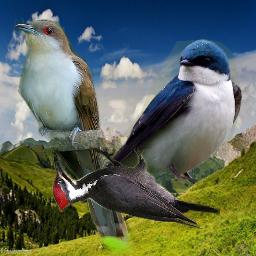Cuckoo: (13, 19, 134, 255)
Swallow: (69, 39, 242, 206)
Woodpecker: (52, 147, 220, 229)
